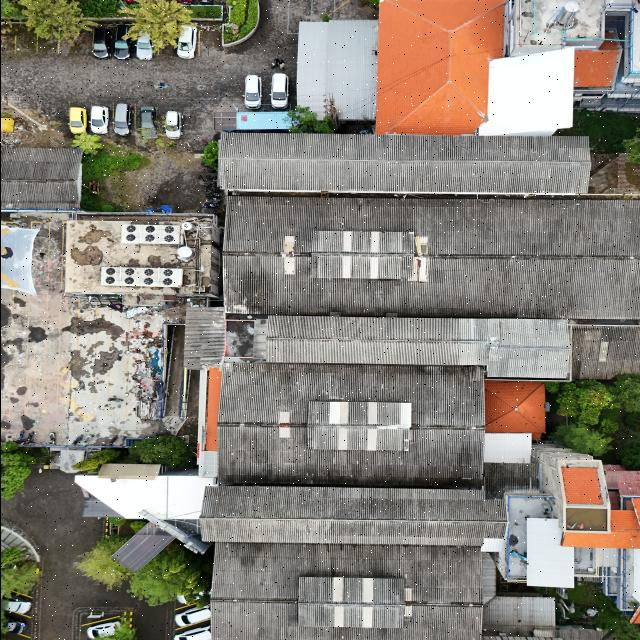Tree: (122, 0, 192, 46), (554, 380, 611, 424), (136, 432, 193, 472), (70, 132, 102, 156)
